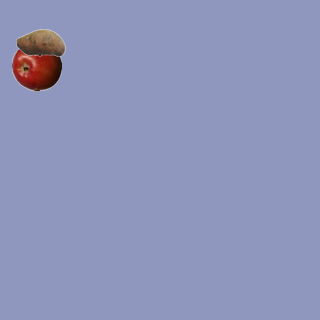Apple Braeburn: (11, 41, 61, 91)
Potato Sweet: (15, 17, 65, 67)
